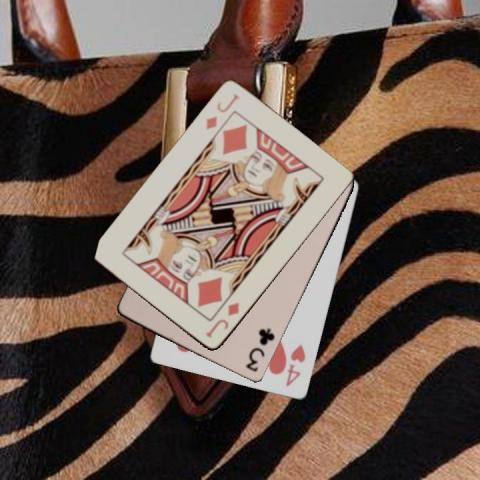3c: (243, 325, 276, 374)
4h: (283, 341, 307, 389)
Jd: (202, 299, 241, 340), (202, 91, 241, 131)
